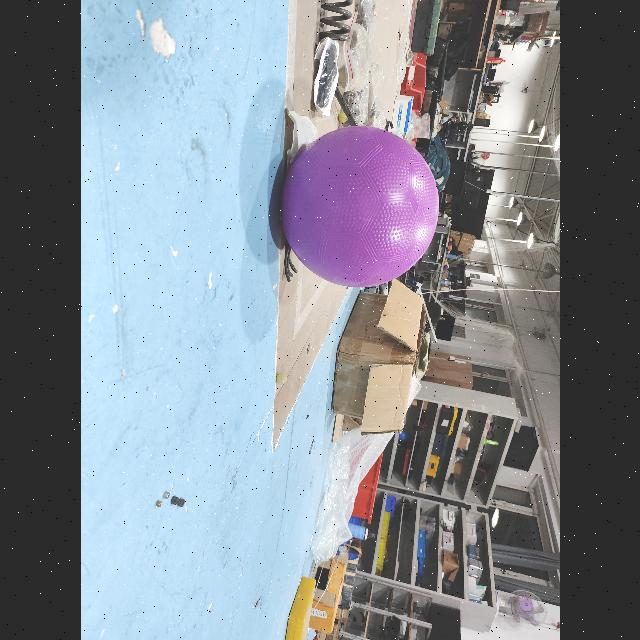P: (277, 124, 439, 286)
